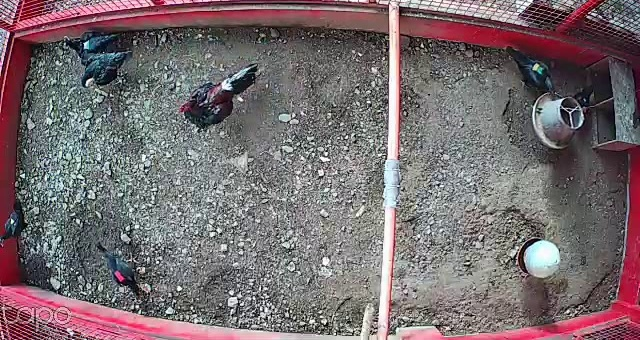Chicken: (95, 240, 148, 301), (502, 42, 556, 98), (79, 48, 136, 95), (56, 27, 126, 59), (0, 200, 33, 250), (569, 81, 601, 113)
Rooster: (176, 63, 276, 131)
Saddle_Color_Red: (113, 268, 127, 285)
Saddle_Color_White: (83, 39, 89, 48)
Saddle_Color_Yellow: (8, 218, 17, 225)
Saddle_Color_YellowGreen: (529, 62, 546, 78)
